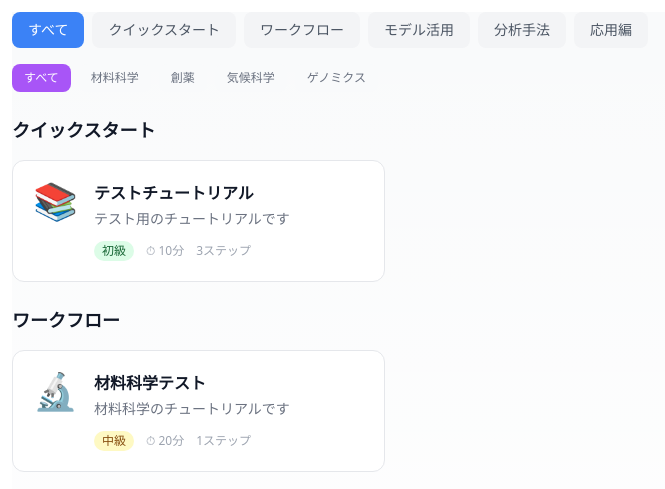
Tutorial Components › TutorialList › should filter by domain
Click the button "材料科学" at (115, 78), box [79,64,151,92]
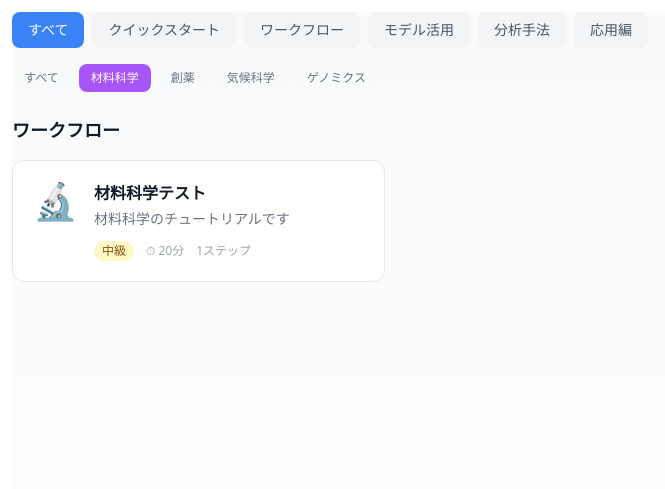
Expected: the heading "材料科学テスト" is shown, [94,182,206,204]
Expected: the heading "テストチュートリアル" is gone
